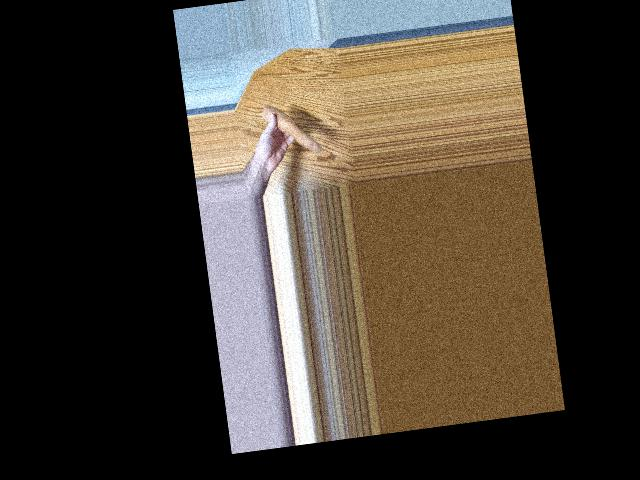sweet_potato: (260, 101, 320, 158)
